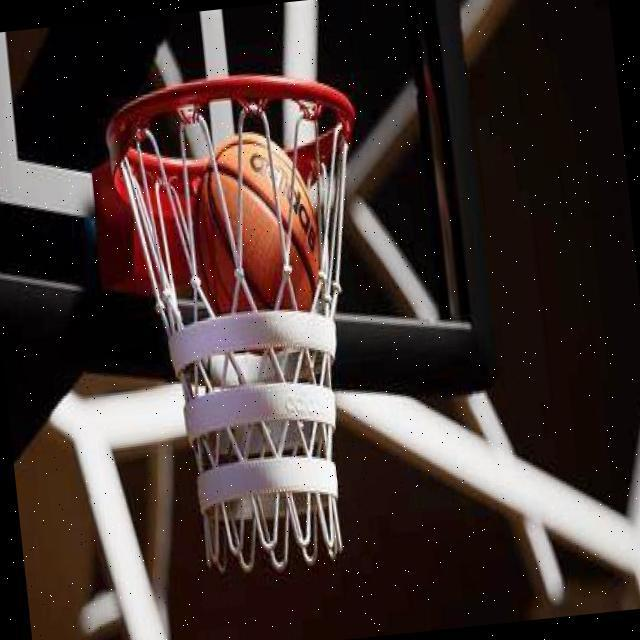ball: (185, 123, 331, 348)
hoop: (91, 76, 374, 170)
